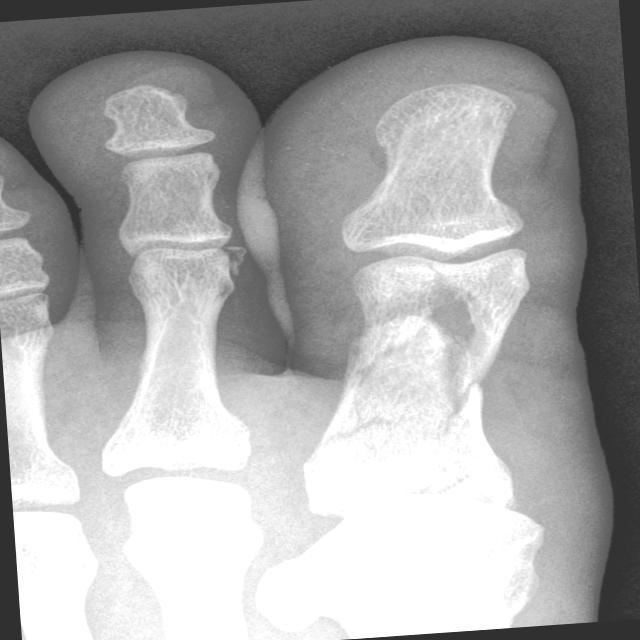Comminuted Fracture: (359, 254, 492, 357), (221, 243, 260, 291)
